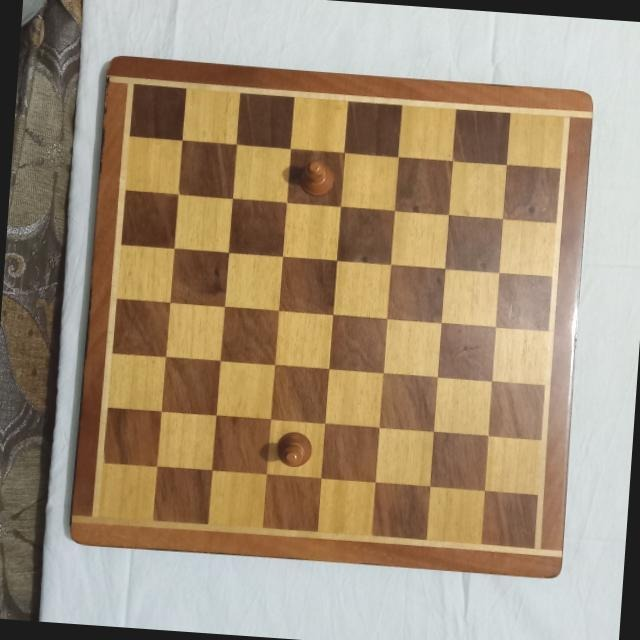white-pawn: (272, 429, 314, 469), (298, 159, 338, 199)
